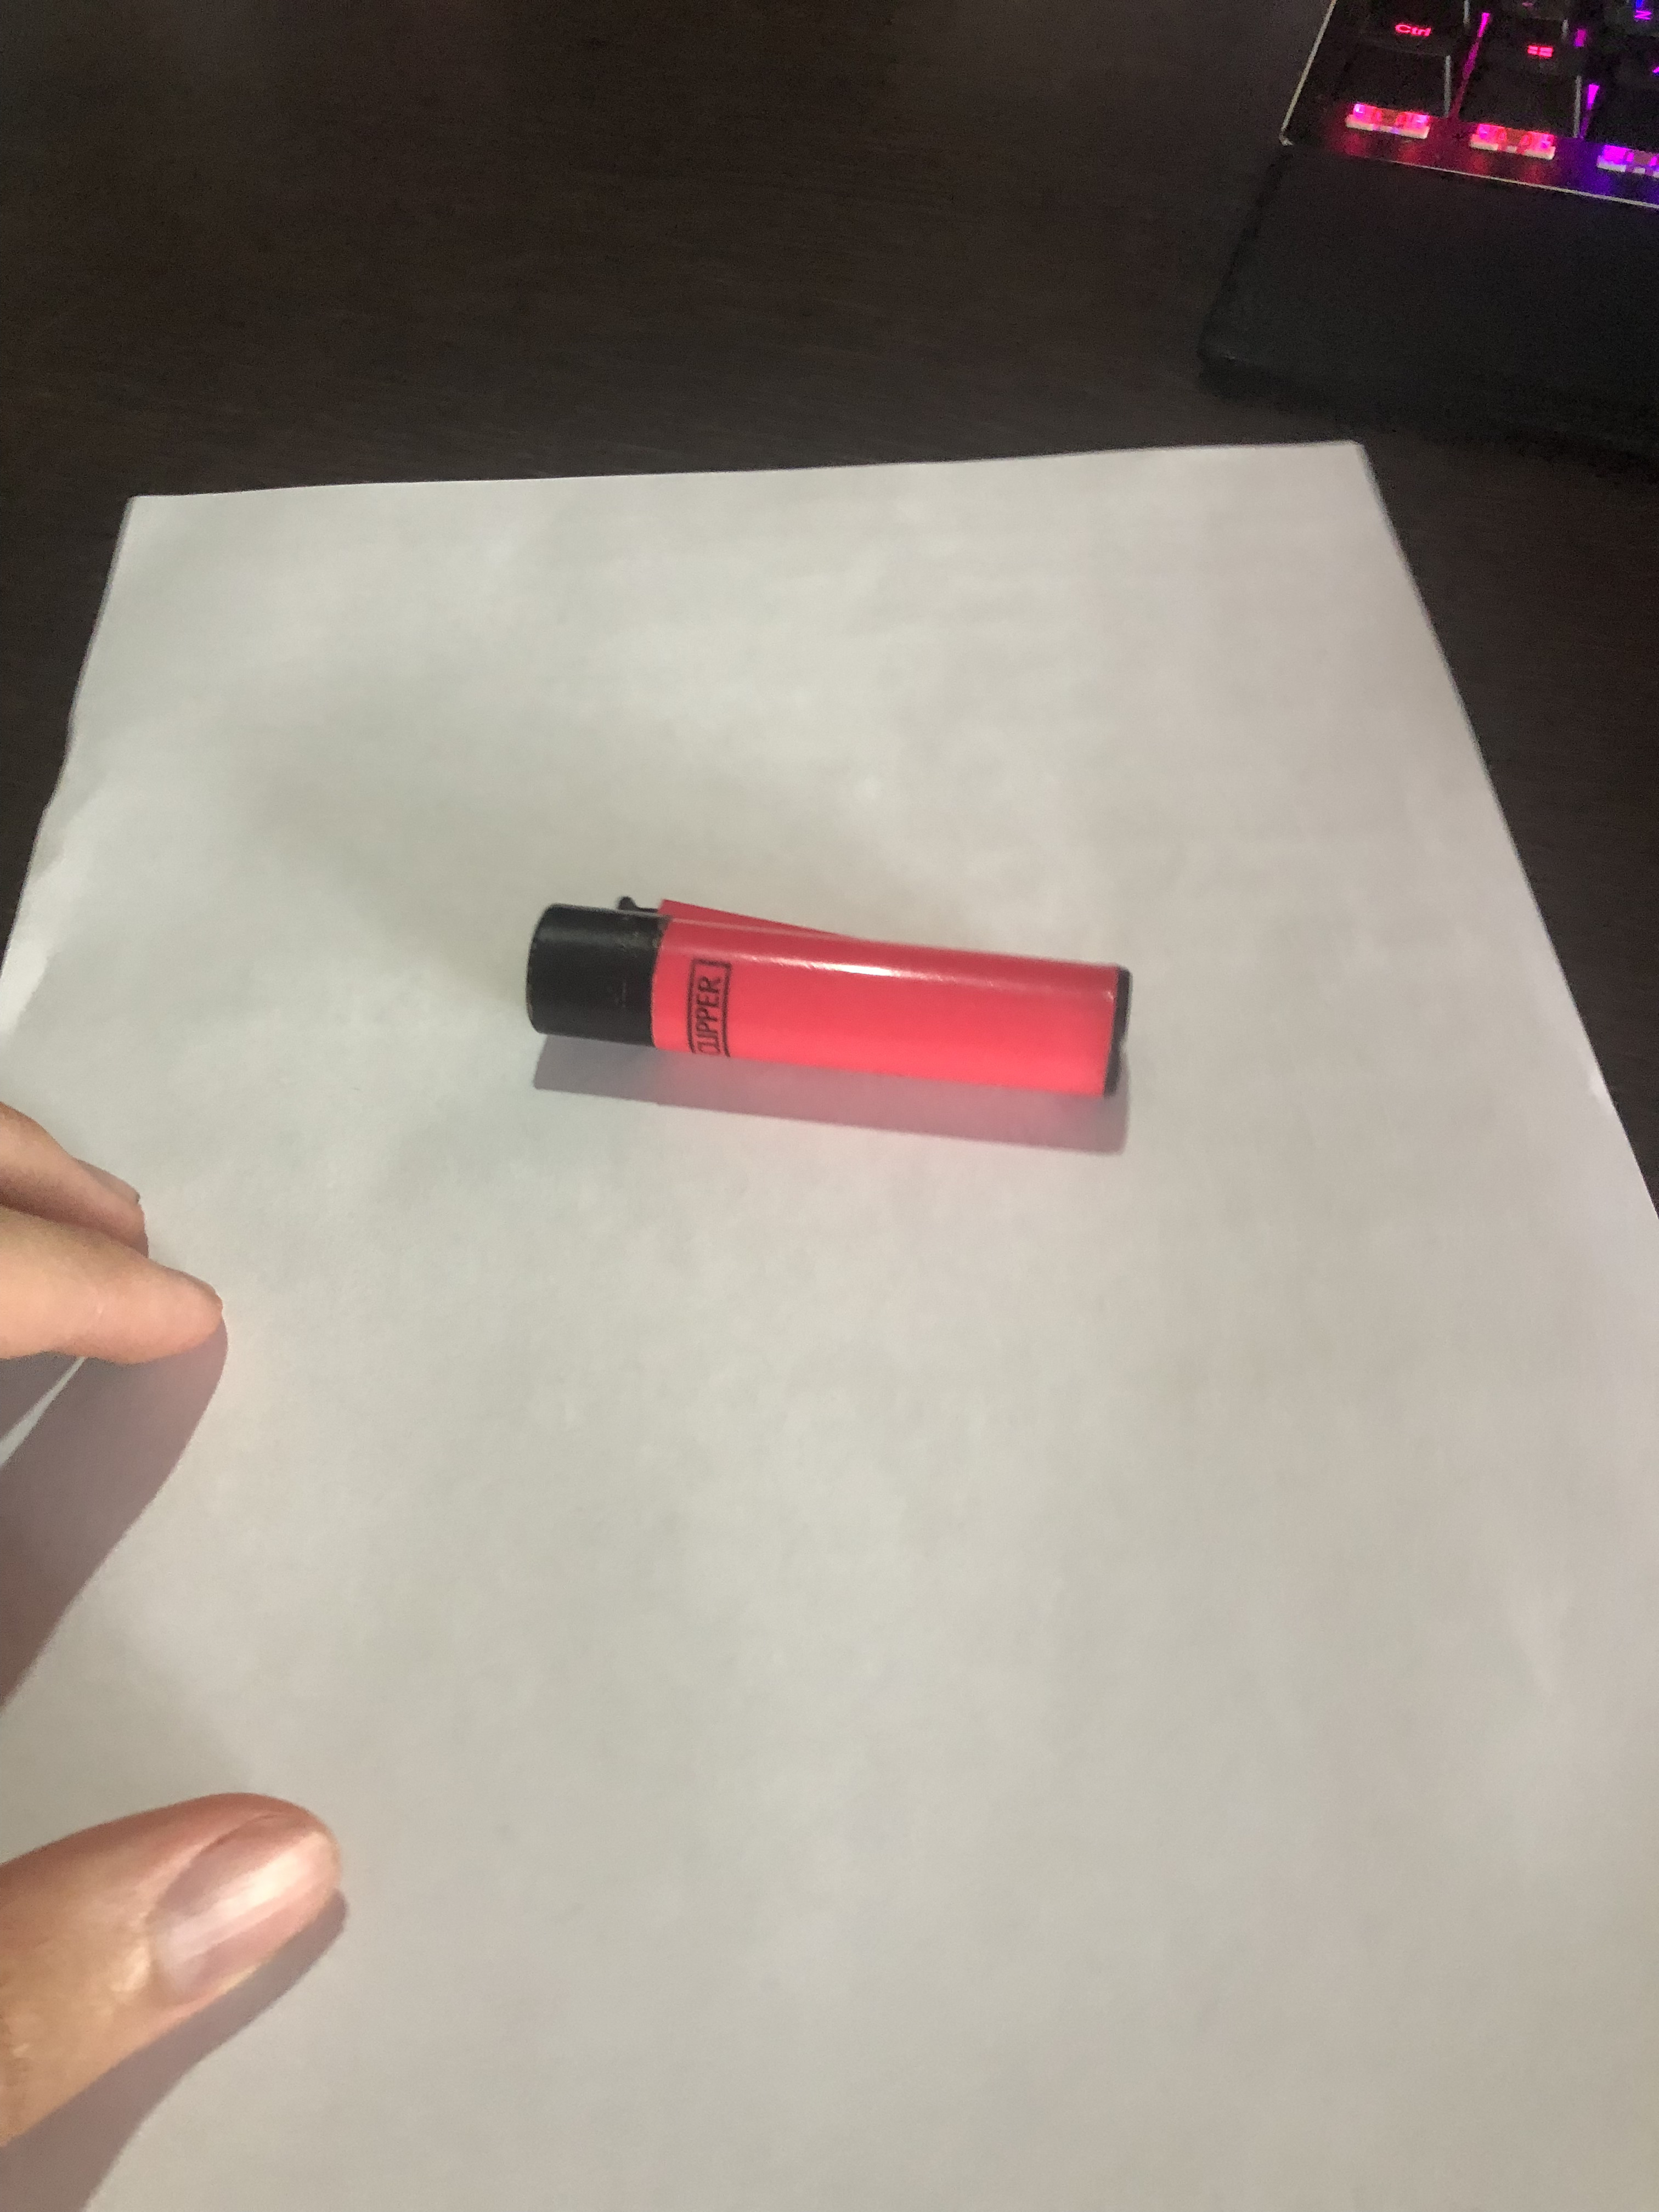Mechero: (512, 871, 1166, 1183)
